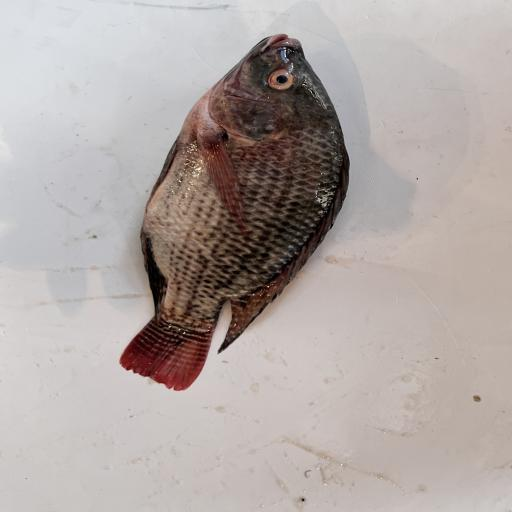Tilapia: (120, 33, 350, 391)
